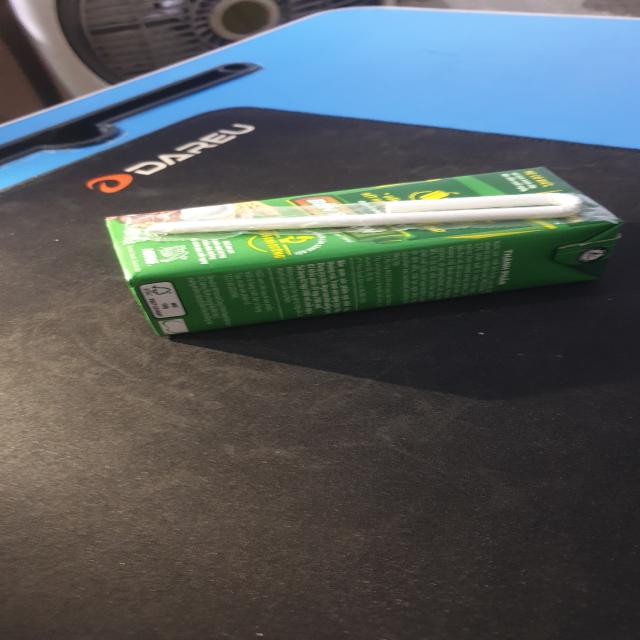Milo: (117, 166, 616, 331)
